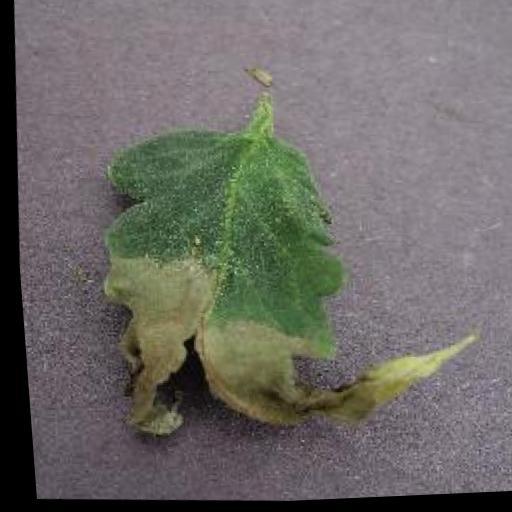Late Blight: (73, 110, 489, 465)
